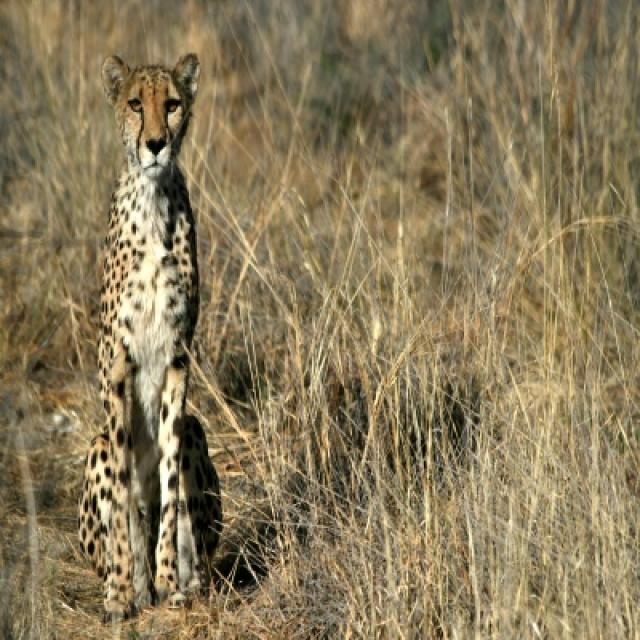Cheetah: (77, 54, 222, 614)
